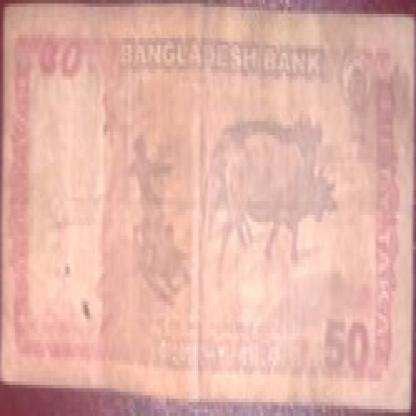Fifty taka: (320, 309, 376, 382), (33, 35, 95, 100)
